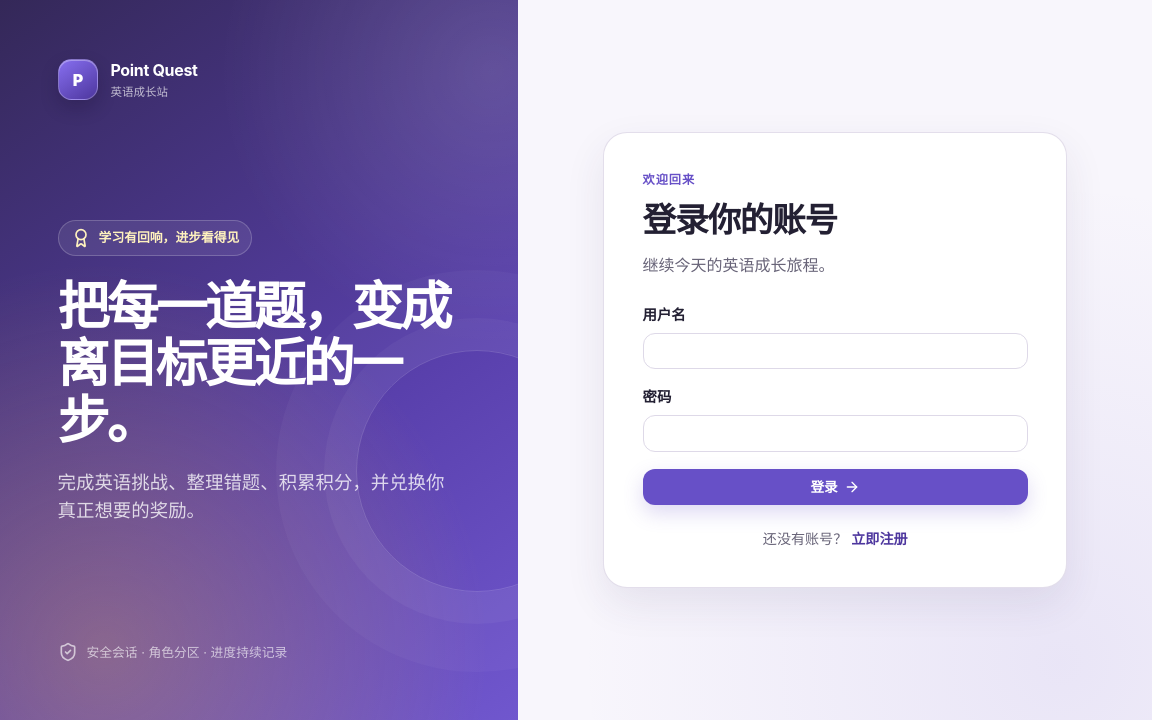
Test case: 认证表单 › 网络或超时 失败保留登录凭据并允许原地重试
The image size is (1152, 720).
Type "learner_01" into the field labelled "用户名".
click(835, 351); type("learner_01")  # box x1=643 y1=333 x2=1028 y2=369
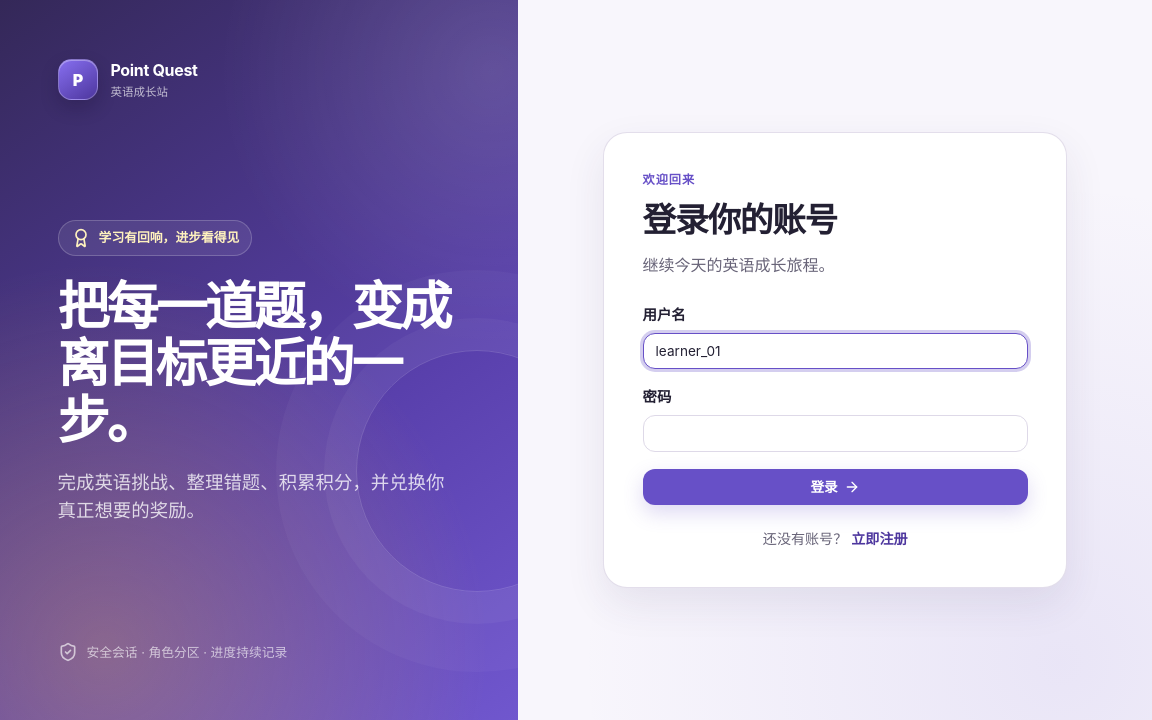
Type "password123" into the password field labelled "密码".
click(835, 433); type("password123")  # box x1=643 y1=415 x2=1028 y2=452
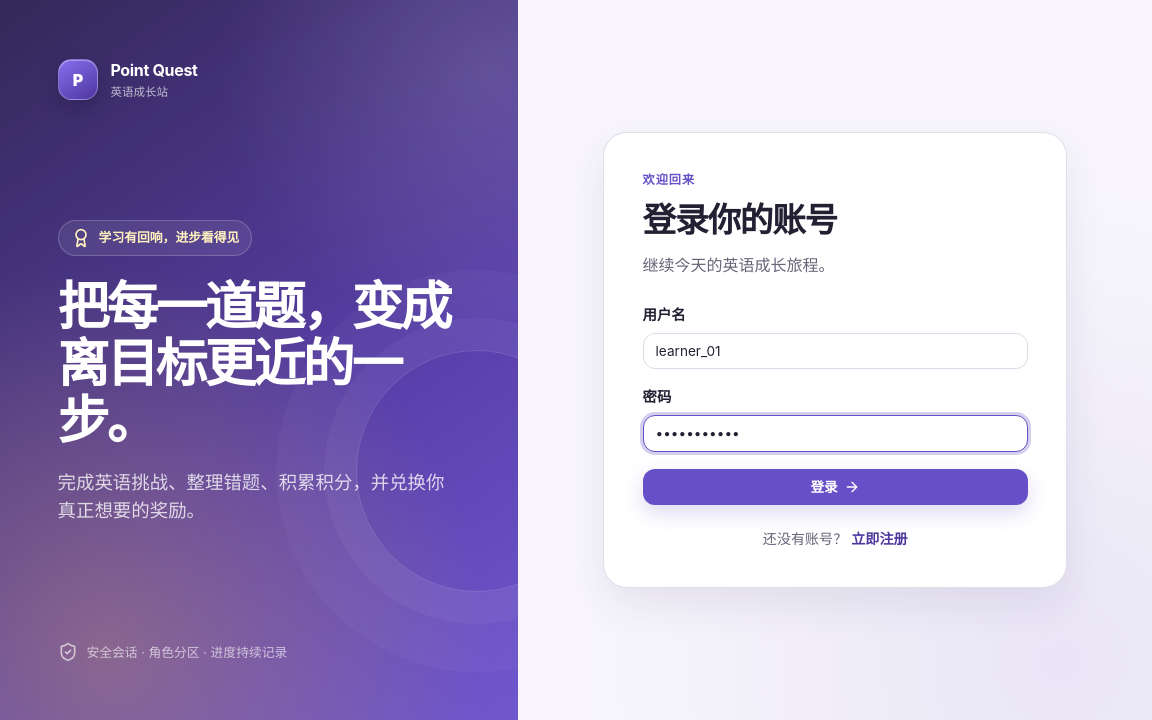
Click the button "登录".
click(835, 487)  # box x1=643 y1=468 x2=1028 y2=505
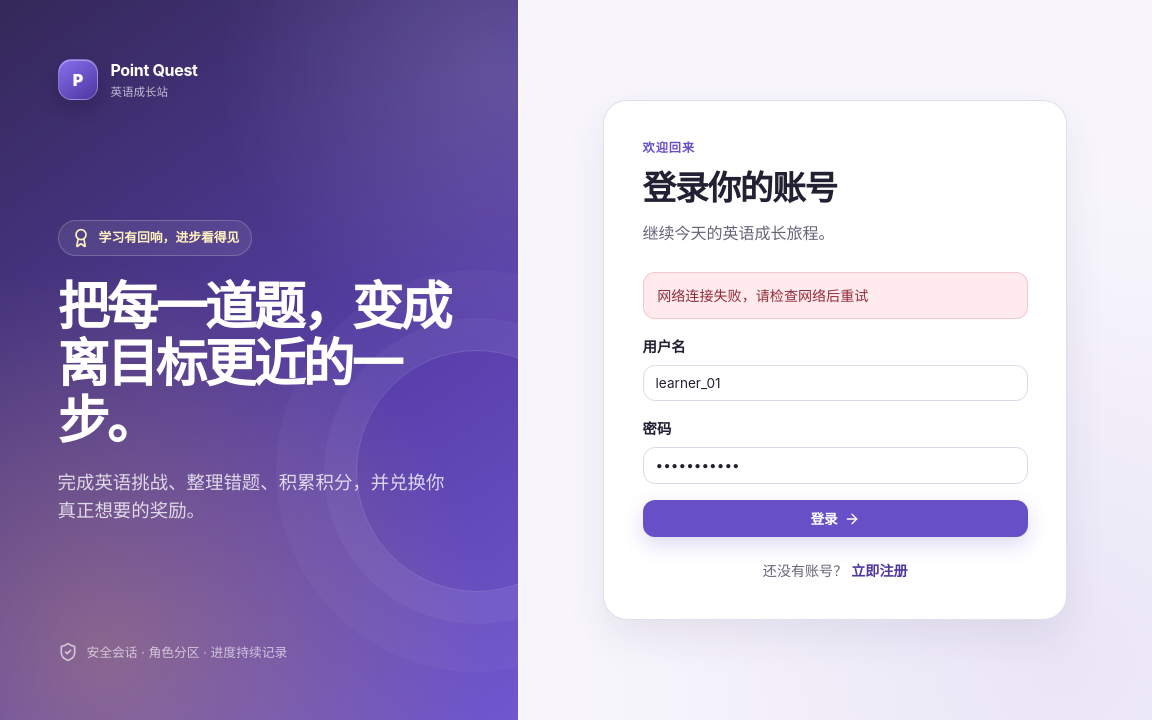
Expected: the button "登录" is enabled, x1=643 y1=500 x2=1028 y2=537
Result: the message "网络连接失败，请检查网络后重试" is shown at x1=643 y1=272 x2=1028 y2=319
